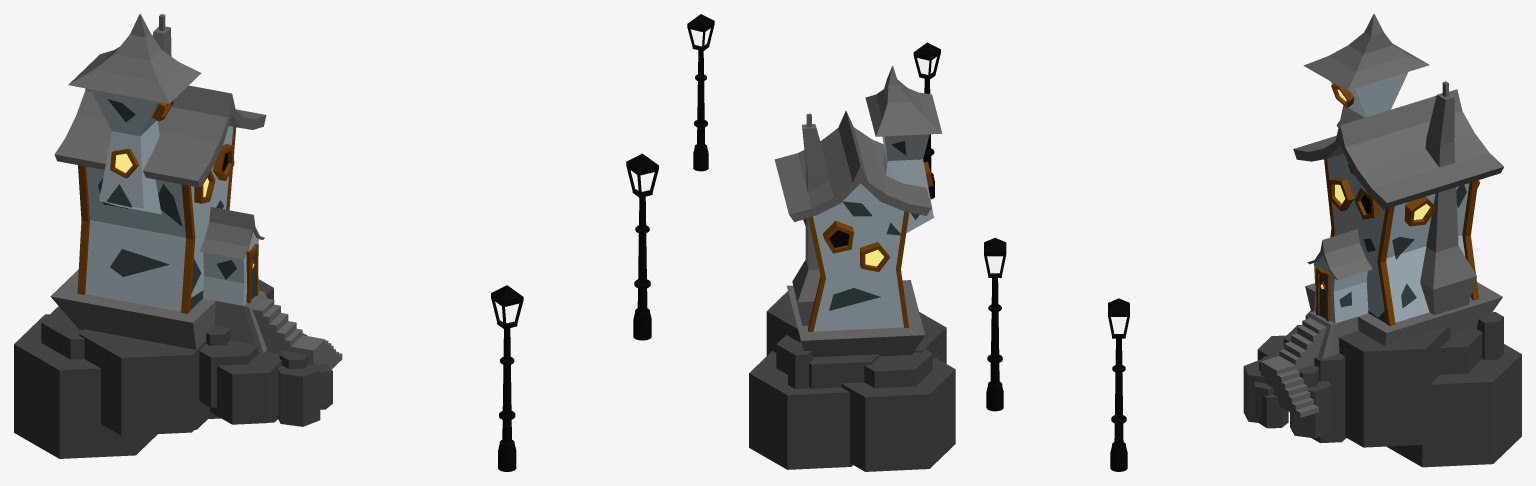
File: gjostMansion.gltf
3 renders of one model, left to right at view 1: azimuth 30°, elevation 25°; view 2: azimuth 150°, elevation 25°; view 3: azimuth 270°, elevation 25°, orthographic. The views are drawn at different scales.
Visible parts, largest first — view 1: house, window tower, Cylinder.007, Cylinder, backbone, big roof, Cylinder.016, stair, lantern.001, lantern, Cylinder.011, pole left (+4 smaller); view 2: Cylinder.007, house, Cylinder.008, big roof, window tower, backbone, chimny, Cylinder.002, Cylinder.009, lantern.001, Cylinder.001, lantern (+6 smaller); view 3: big roof, Cylinder.001, Cylinder.008, house, chimny, backbone, window tower, stair, lantern, lantern.001, pole right, Cylinder.005 (+9 smaller).
Boxes of the visible parts, x1,y1,x2,y2 form: house: (85,126,233,311); window tower: (68,14,201,214); Cylinder.007: (14,314,157,458); Cylinder: (79,329,211,435); backbone: (50,232,267,352); big roof: (54,85,266,187); Cylinder.016: (210,351,281,424); stair: (252,298,342,369); lantern.001: (626,153,658,340); lantern: (491,285,523,471); Cylinder.011: (276,362,320,426); pole left: (77,165,195,313); Cylinder.007: (841,357,955,471); house: (813,183,904,331); Cylinder.008: (749,351,852,469); big roof: (774,111,931,222); window tower: (865,66,942,232); backbone: (787,280,924,357); chimny: (792,113,829,325); Cylinder.002: (776,335,879,388); Cylinder.009: (864,349,932,388); lantern.001: (687,14,714,171); Cylinder.001: (766,291,801,355); lantern: (913,42,940,199); big roof: (1293,89,1503,209); Cylinder.001: (1338,326,1450,447); Cylinder.008: (1387,344,1521,467); house: (1328,153,1471,323); chimny: (1420,81,1476,314); backbone: (1305,255,1502,358); window tower: (1303,14,1429,135); stair: (1260,318,1326,417); lantern: (984,238,1006,411); lantern.001: (1108,298,1129,471); pole right: (1377,180,1478,326); Cylinder.005: (1312,353,1346,443).
Size of the model in its own units: 3.1 by 2.78 by 3.38.
